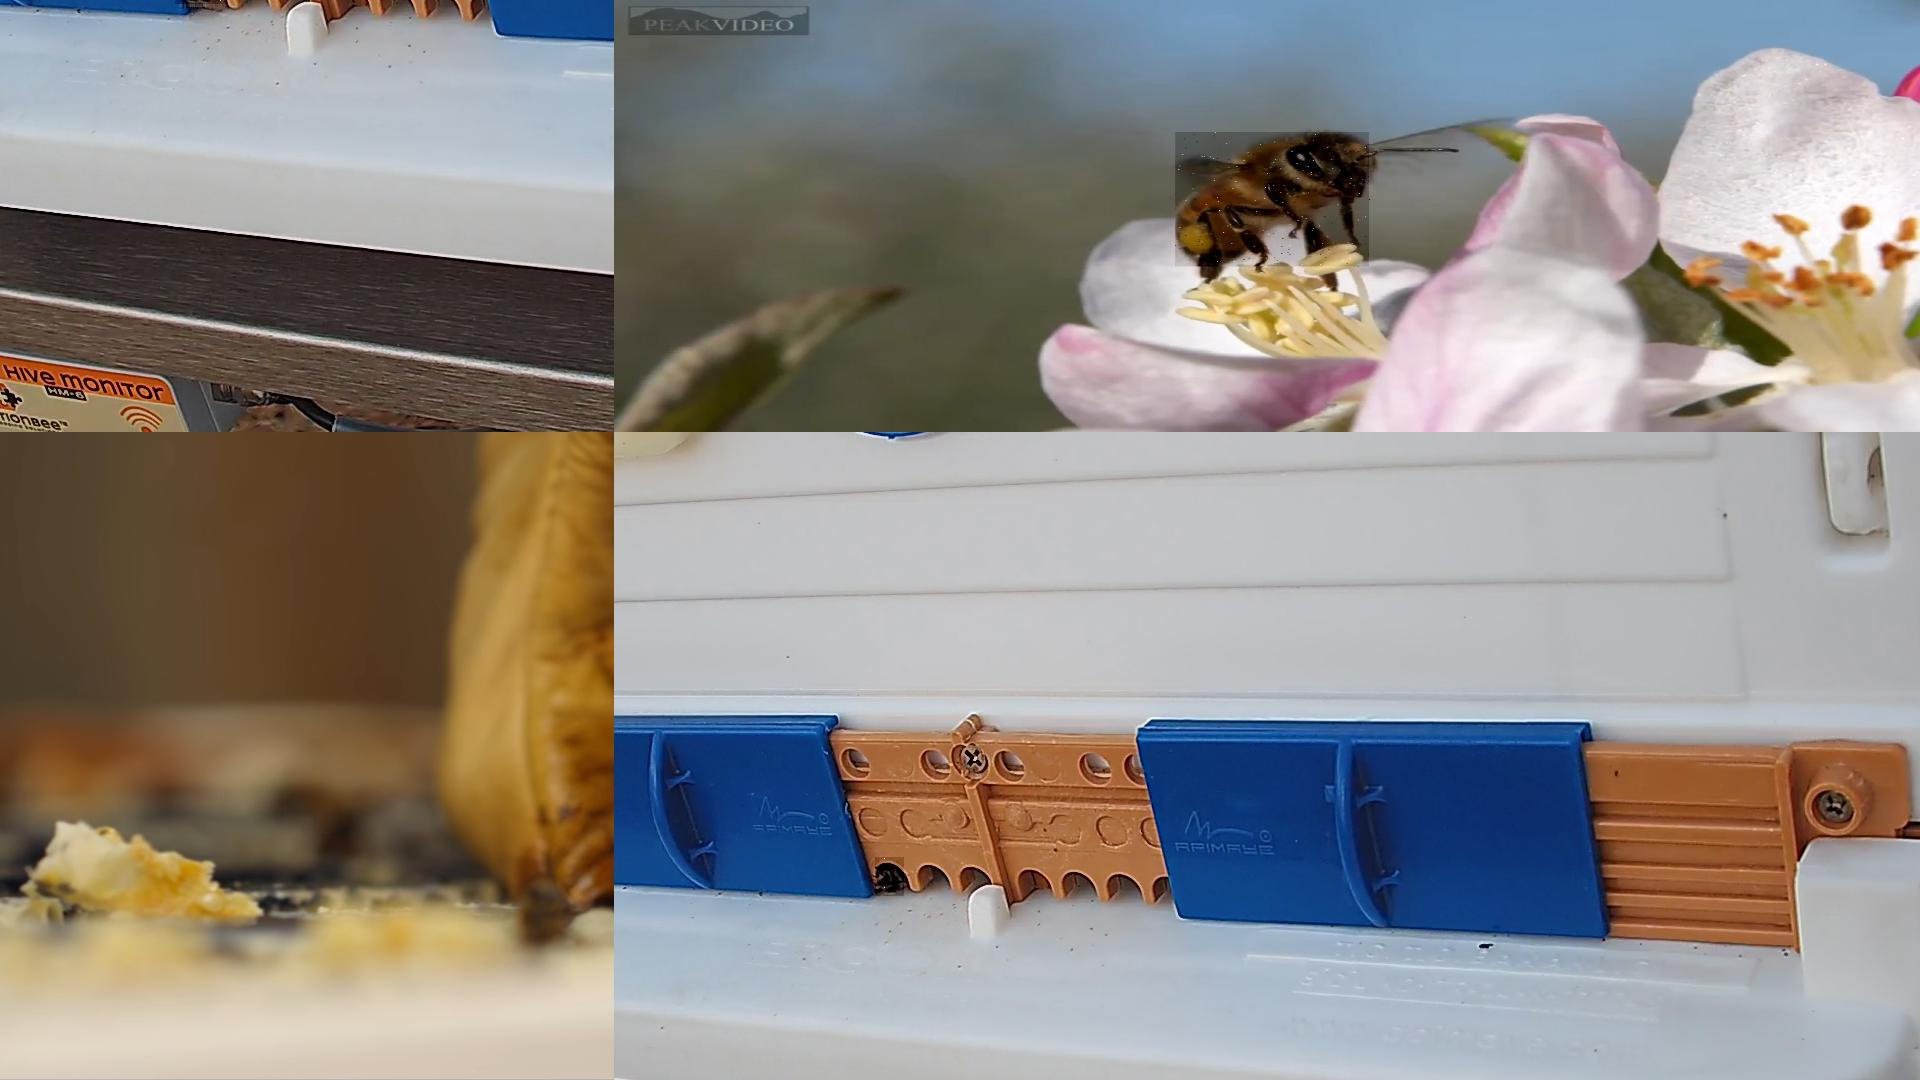bee: (876, 857, 905, 897), (175, 0, 224, 8)
pollenbee: (1176, 132, 1373, 266)
